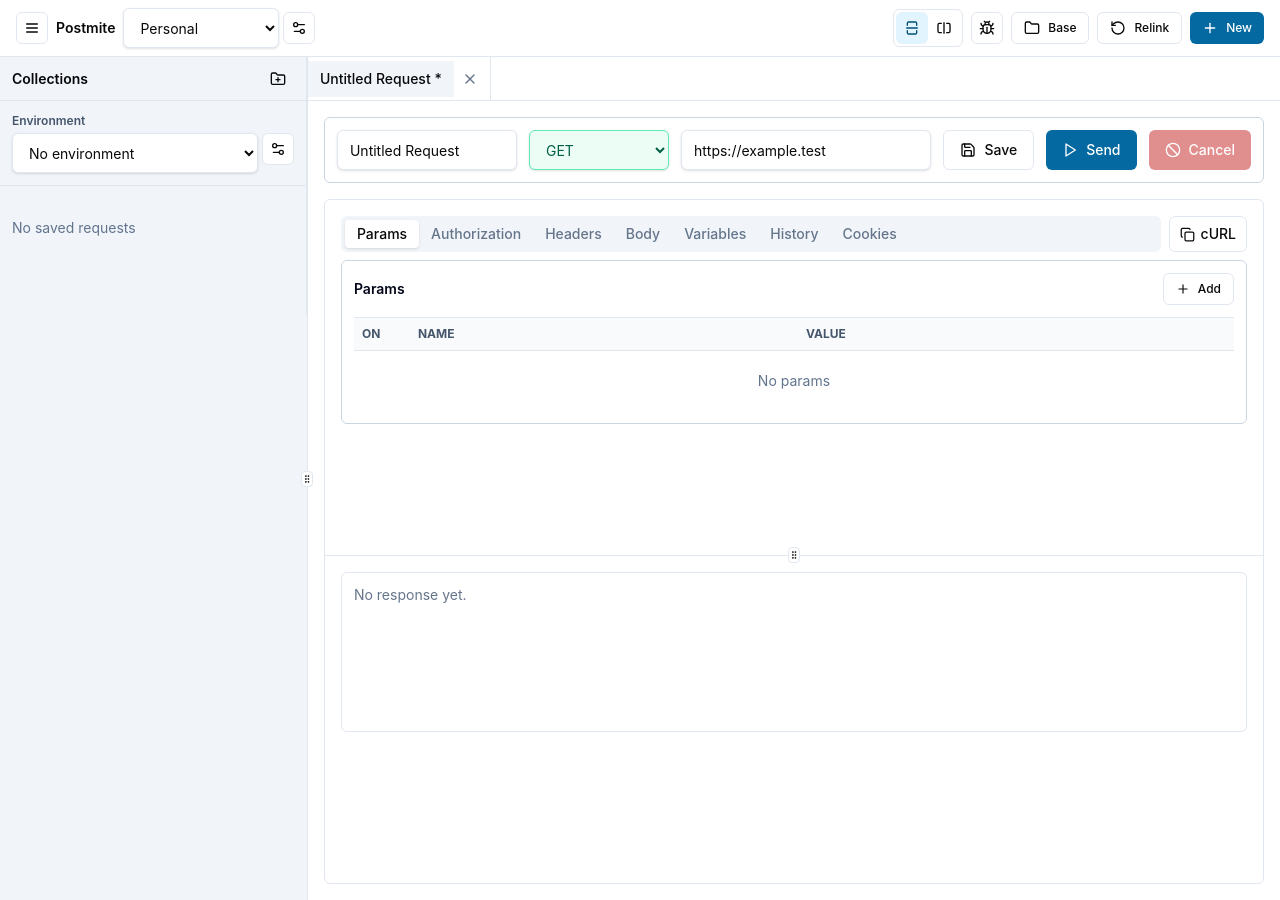
Scenario: App request editor › displays status headers JSON body and timing from execution events
The width and height of the screenshot is (1280, 900).
Click the button "Send" at (1091, 150), box [1046,130,1136,170]
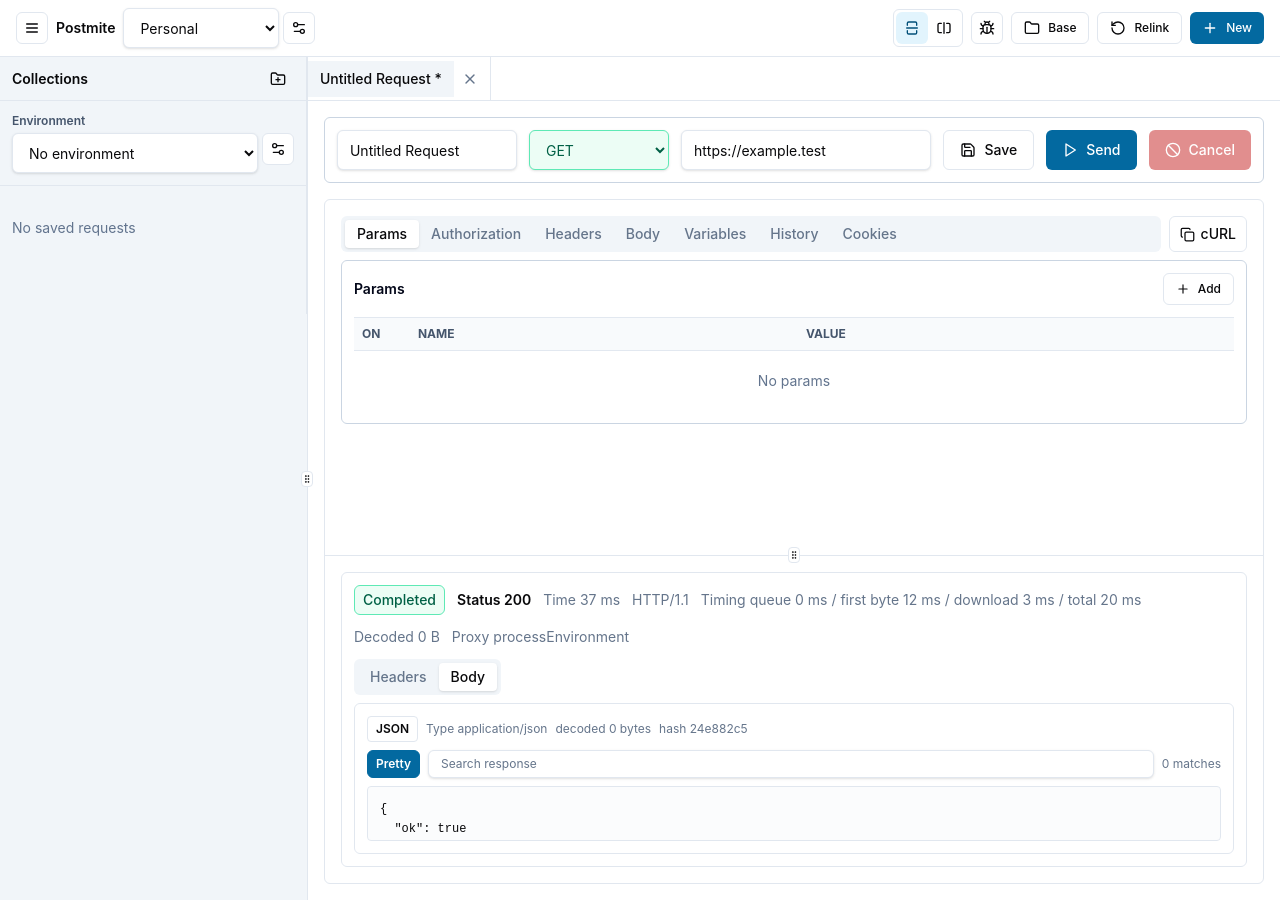
Now the text "Completed" is shown, box [354,585,445,615]
Now the text "Status 200" is shown, box [457,590,531,610]
Now the text "{ \"ok\": true }" is shown, box [367,786,1221,841]
Click the tab "Headers" below "Proxy" at (398, 677), box [358,663,439,691]
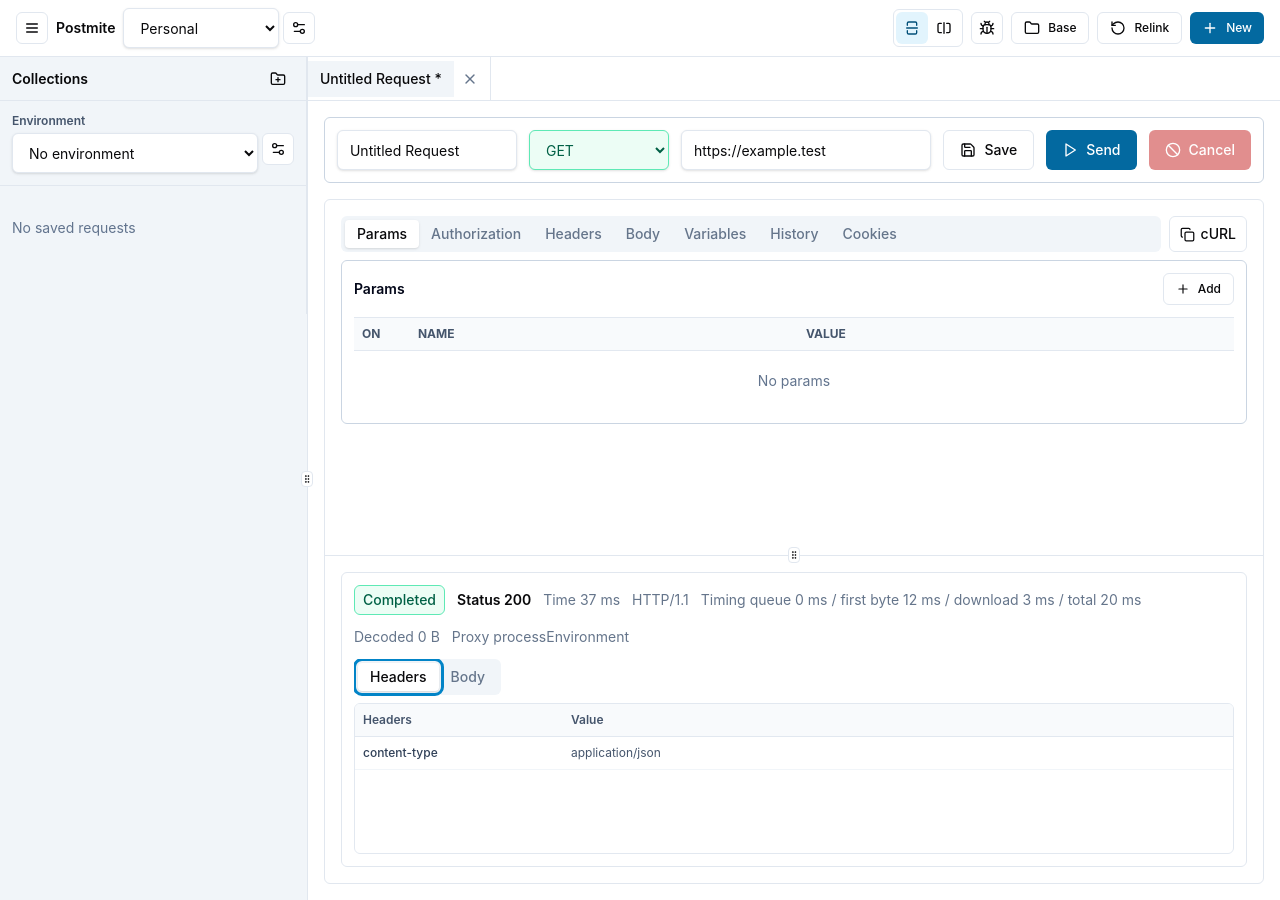
Now the text "application/json" is shown, box [563,736,1233,769]
Now the text "Time 37 ms" is shown, box [543,590,620,610]
Now the text "content-type" is shown, box [355,736,563,769]
